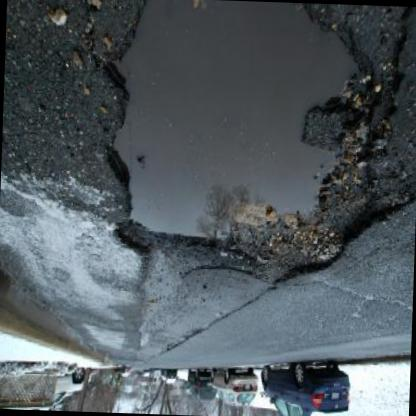pothole: (92, 0, 412, 293)
